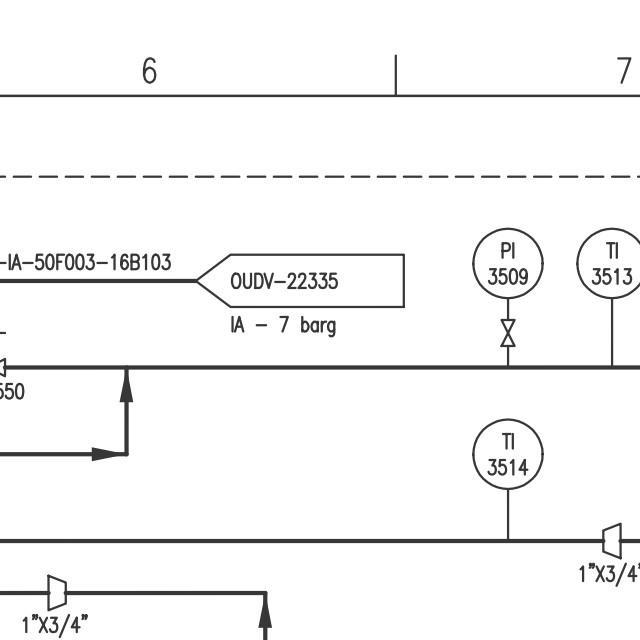GV: (499, 313, 518, 351)
SP: (599, 517, 628, 562), (43, 569, 70, 617)
